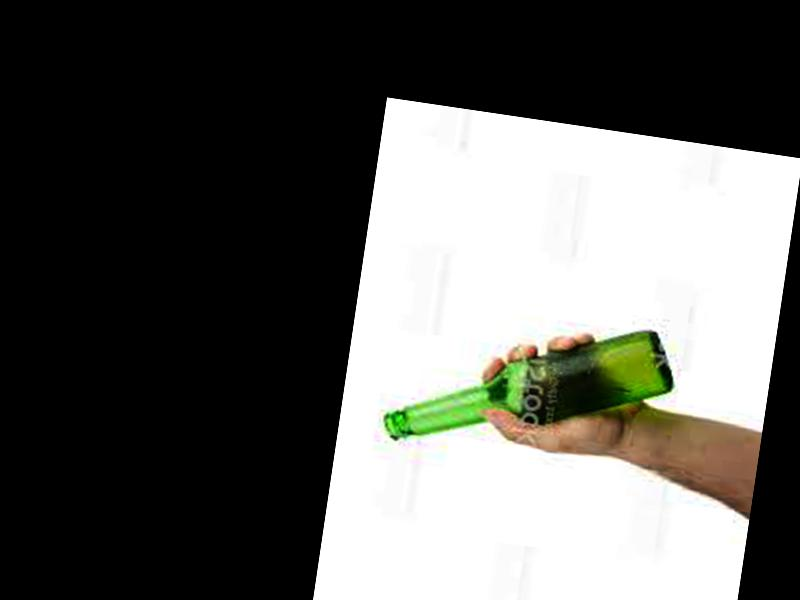Beer: (378, 293, 677, 479)
